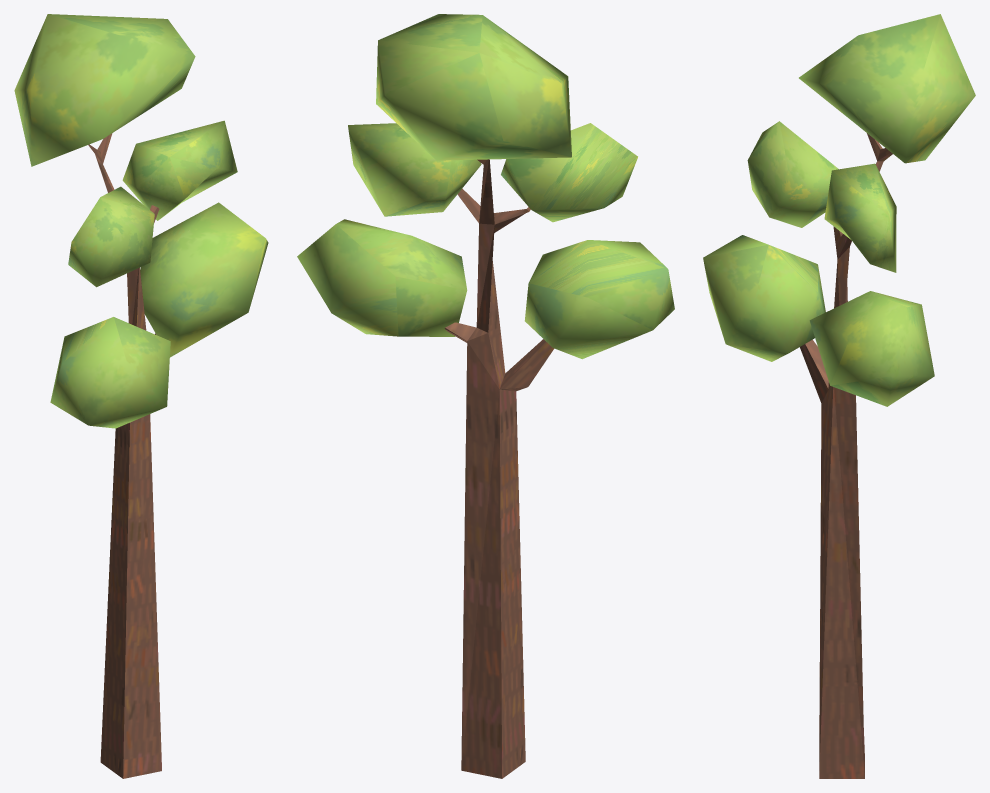
Rendered from tree4.fbx.
3 views of the same model, side by side, from view 1: azimuth 30°, elevation 25°; view 2: azimuth 150°, elevation 25°; view 3: azimuth 270°, elevation 25° (orthographic). The views are drawn at different scales.
Visible parts, largest first — view 1: tree4; view 2: tree4; view 3: tree4.
Boxes of the visible parts, box(x1,y1,x2,y2) form: tree4: box(14, 14, 268, 778); tree4: box(297, 14, 674, 778); tree4: box(703, 14, 975, 778).
Size of the model in its own units: 273 by 675 by 226.
